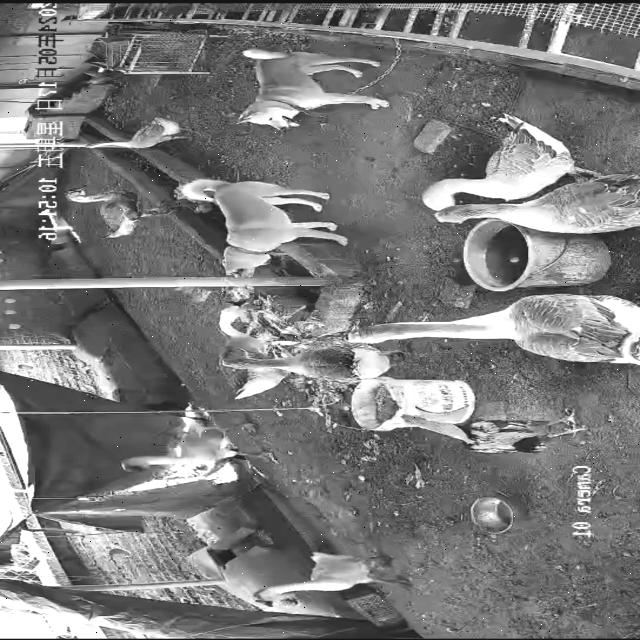dog: (183, 179, 350, 271), (228, 47, 392, 131)
